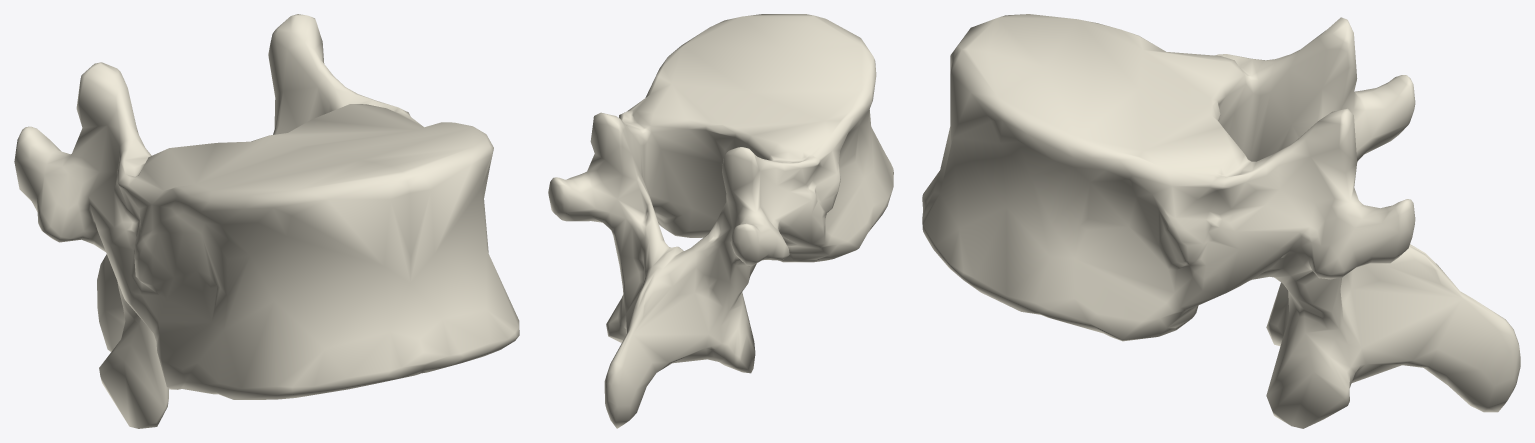
3 renders of one model, left to right at view 1: azimuth 30°, elevation 25°; view 2: azimuth 150°, elevation 25°; view 3: azimuth 270°, elevation 25°, orthographic. The views are drawn at different scales.
Parts seen in each view (by area): view 1: ZA_792ba4c0105fcd61; view 2: ZA_792ba4c0105fcd61; view 3: ZA_792ba4c0105fcd61.
Part boxes in pixels (x1,y1,x2,y2): ZA_792ba4c0105fcd61: (14,14,519,428); ZA_792ba4c0105fcd61: (548,14,893,428); ZA_792ba4c0105fcd61: (922,14,1520,428).
Bounding box in the file's own units: 0.0467 × 0.054 × 0.0807.
